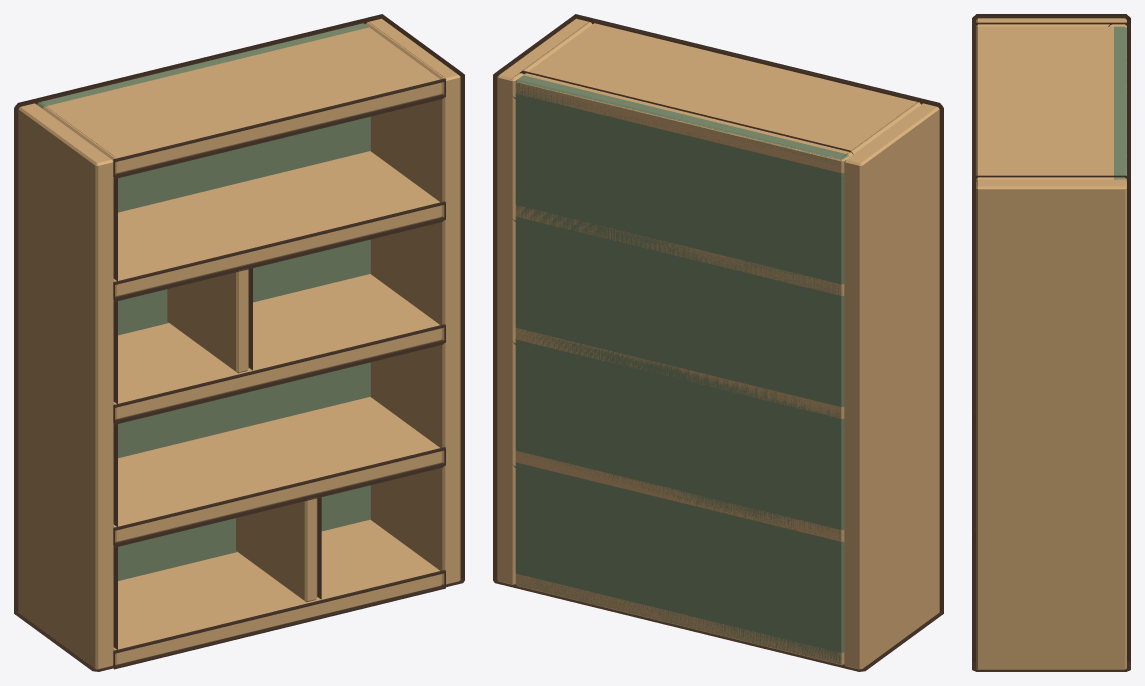
The model's file is botanic-bookcase.glb.
3 views of the same model, side by side, from view 1: azimuth 30°, elevation 25°; view 2: azimuth 150°, elevation 25°; view 3: azimuth 270°, elevation 25° (orthographic). The views are drawn at different scales.
Parts seen in each view (by area): view 1: botanic-bookcase, botanic-bookcase-outline; view 2: botanic-bookcase, botanic-bookcase-outline; view 3: botanic-bookcase, botanic-bookcase-outline.
Part boxes in pixels (box(x1,y1,x2,y2)): botanic-bookcase: box(18, 18, 460, 669); botanic-bookcase-outline: box(14, 14, 464, 671); botanic-bookcase: box(497, 18, 939, 669); botanic-bookcase-outline: box(493, 14, 943, 671); botanic-bookcase: box(976, 18, 1126, 669); botanic-bookcase-outline: box(972, 14, 1130, 671).
Bounding box in the file's own units: 1.63 × 2.15 × 0.6315.
